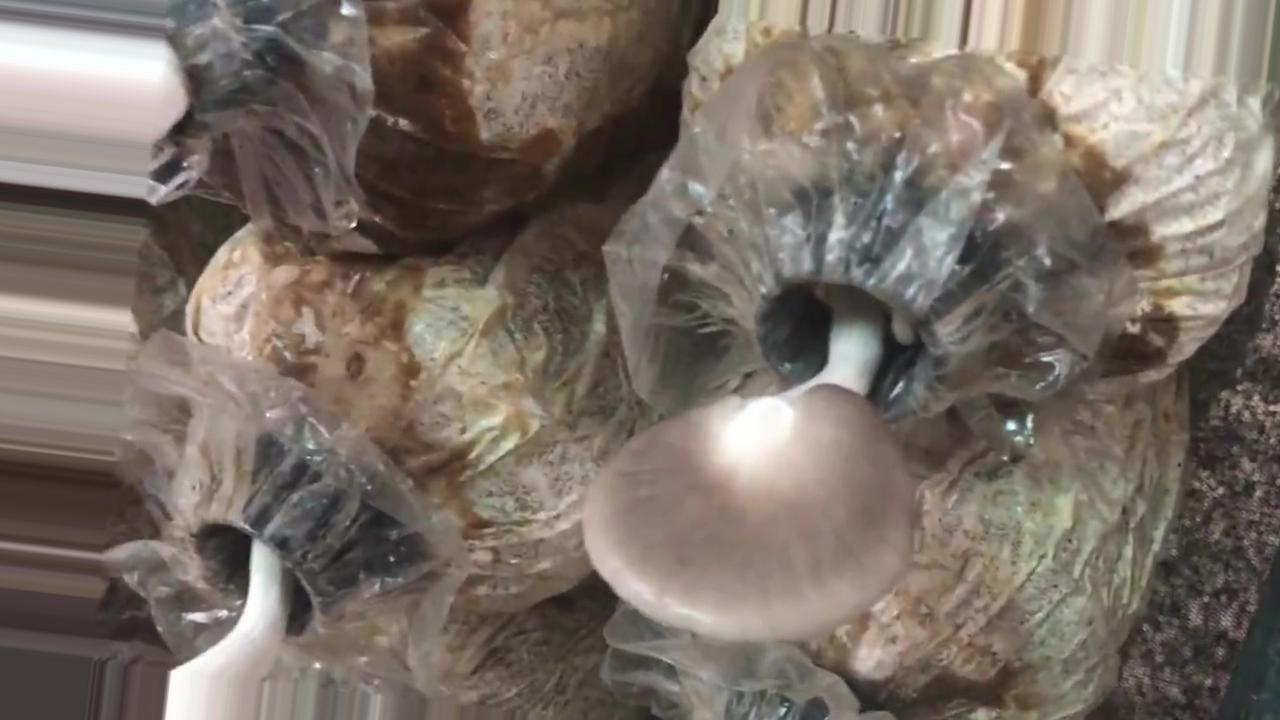nam: (581, 105, 984, 649)
